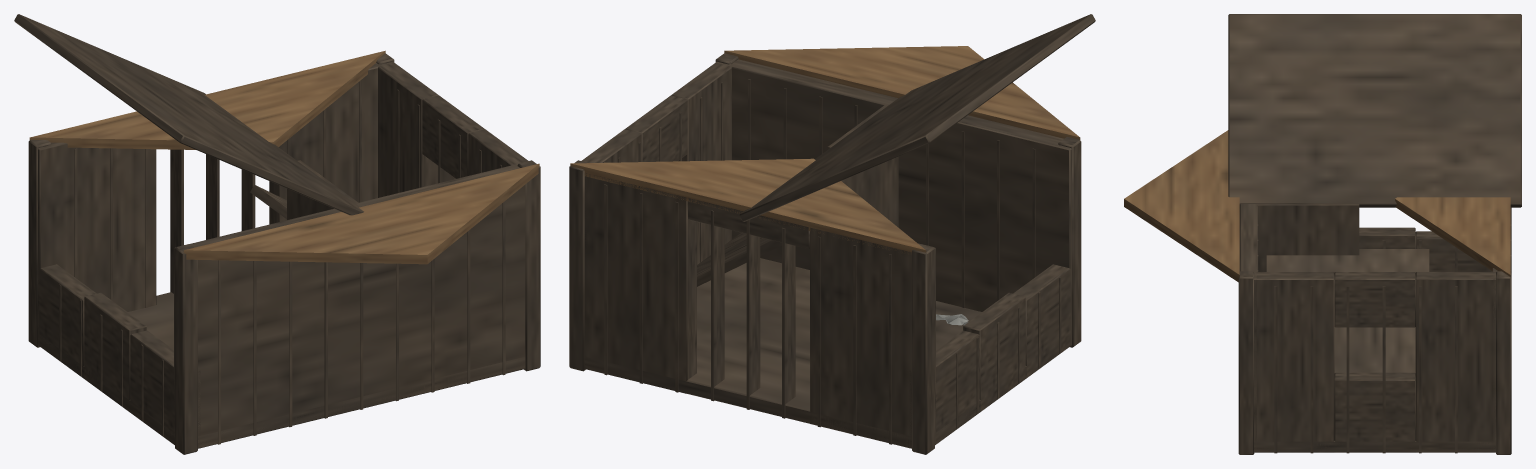
The model's file is SM_POI_AbandonedHouse.fbx.
The picture shows the model from 3 angles, left to right: view 1: azimuth 30°, elevation 25°; view 2: azimuth 150°, elevation 25°; view 3: azimuth 270°, elevation 25°; orthographic projection. The views are drawn at different scales.
Visible parts, largest first — view 1: SM_POI_AbandonedHouse; view 2: SM_POI_AbandonedHouse; view 3: SM_POI_AbandonedHouse.
Part boxes in pixels (x1=…): SM_POI_AbandonedHouse: x1=14, y1=14, x2=540, y2=454; SM_POI_AbandonedHouse: x1=569, y1=14, x2=1095, y2=454; SM_POI_AbandonedHouse: x1=1124, y1=14, x2=1521, y2=454.
Bounding box in the file's own units: 16.48 × 13.98 × 17.62.
1 material, 1 textured.
